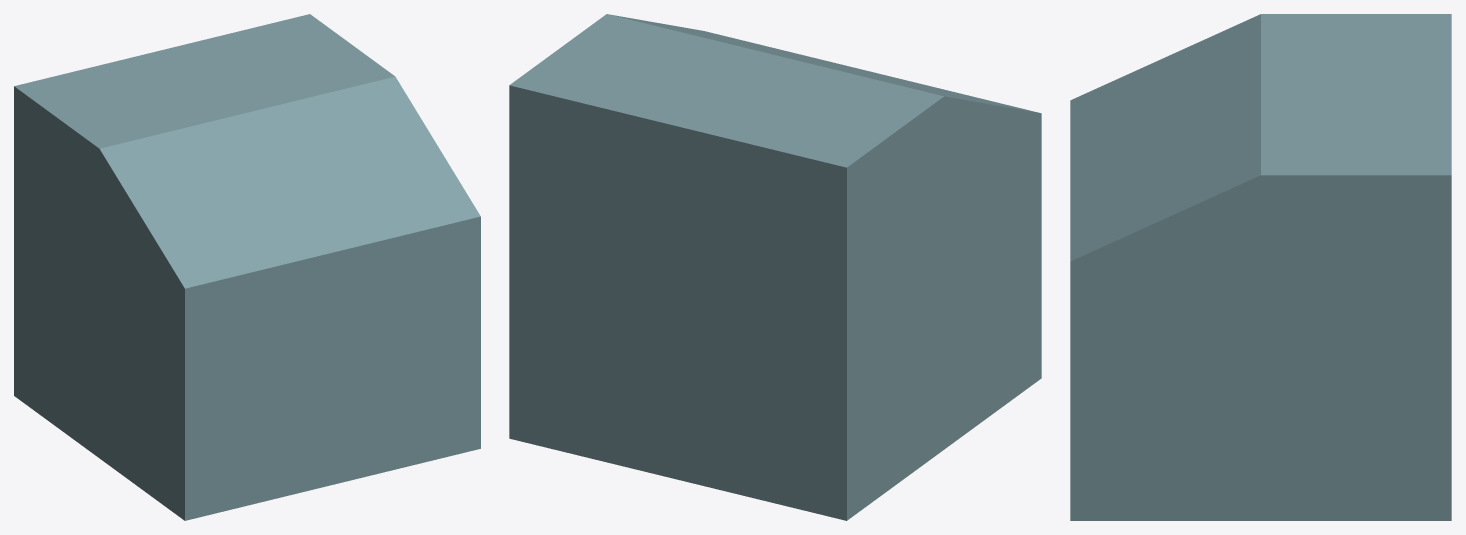
The model's file is Shields-pc.glb.
The picture shows the model from 3 angles, left to right: view 1: azimuth 30°, elevation 25°; view 2: azimuth 150°, elevation 25°; view 3: azimuth 270°, elevation 25°; orthographic projection. The views are drawn at different scales.
Parts seen in each view (by area): view 1: Cube; view 2: Cube; view 3: Cube.
Part boxes in pixels (x1,y1,x2,y2): Cube: [14, 14, 480, 520]; Cube: [509, 14, 1041, 520]; Cube: [1070, 14, 1451, 520].
Bounding box in the file's own units: 2 × 2 × 2.
